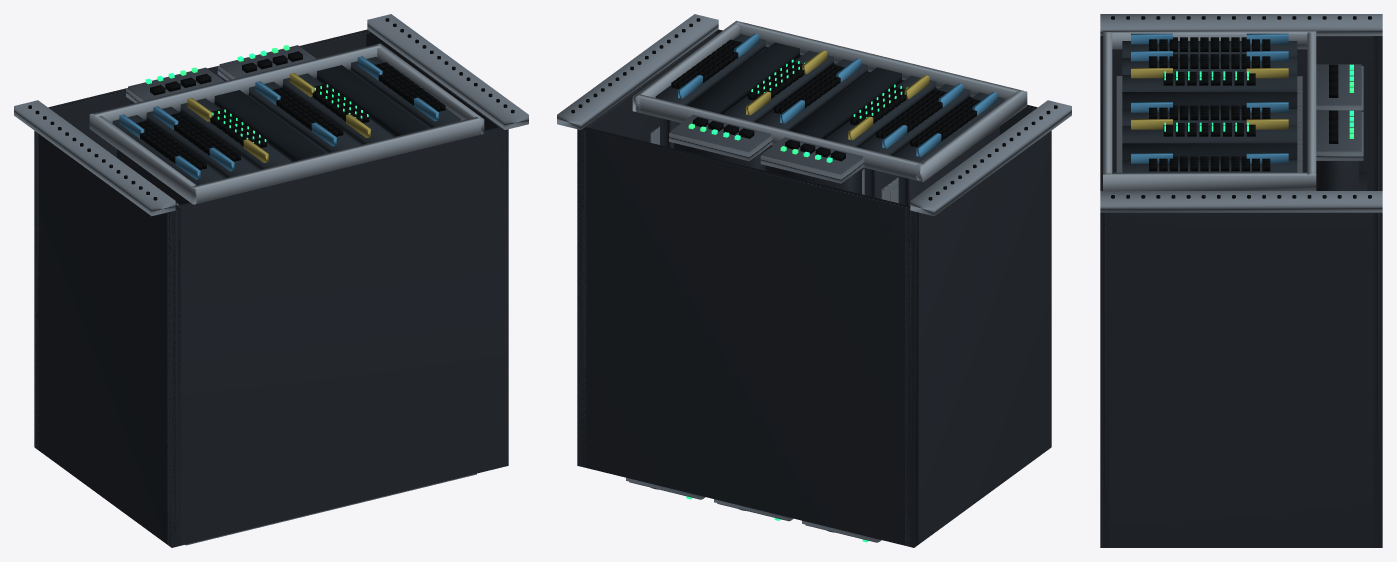
Rendered from core_switch_assembled_demo.glb.
3 views of the same model, side by side, from view 1: azimuth 30°, elevation 25°; view 2: azimuth 150°, elevation 25°; view 3: azimuth 270°, elevation 25° (orthographic). The views are drawn at different scales.
Visible parts, largest first — view 1: chassis_top, chassis_left, service_top_rail, rack_ear_left, rack_ear_right, chassis_bottom, service_bottom_rail, SLOT04_blank_blank_face, SLOT07_blank_blank_face, service_left_rail, service_right_rail, SLOT03_linecard_24sfp_linecard_face (+9 smaller); view 2: chassis_bottom, chassis_left, rack_ear_left, rack_ear_right, chassis_right, service_top_rail, service_bottom_rail, SLOT07_blank_blank_face, SLOT04_blank_blank_face, service_left_rail, service_right_rail, SUP1_supervisor_face (+13 smaller); view 3: chassis_right, rack_ear_right, rack_ear_left, chassis_bottom, chassis_left, service_right_rail, chassis_top, SLOT07_blank_blank_face, SLOT06_linecard_24sfp_linecard_face, SLOT04_blank_blank_face, SLOT03_linecard_24sfp_linecard_face, service_left_rail (+23 smaller).
Part boxes in pixels (x1,y1,x2,y2): chassis_top: (167, 127, 508, 547); chassis_left: (34, 133, 180, 547); service_top_rail: (192, 117, 481, 203); rack_ear_left: (14, 100, 175, 216); rack_ear_right: (367, 14, 528, 129); chassis_bottom: (34, 29, 370, 449); service_bottom_rail: (93, 44, 381, 123); SLOT04_blank_blank_face: (214, 90, 324, 161); SLOT07_blank_blank_face: (317, 65, 427, 137); service_left_rail: (89, 113, 196, 204); service_right_rail: (377, 43, 484, 134); SLOT03_linecard_24sfp_linecard_face: (180, 98, 290, 170); chassis_bottom: (577, 127, 918, 547); chassis_left: (905, 130, 1051, 547); rack_ear_left: (910, 100, 1071, 216); rack_ear_right: (557, 14, 718, 129); chassis_right: (577, 31, 721, 467); service_top_rail: (735, 21, 1023, 100); service_bottom_rail: (635, 94, 924, 181); SLOT07_blank_blank_face: (689, 42, 799, 114); SLOT04_blank_blank_face: (792, 67, 901, 139); service_left_rail: (916, 90, 1027, 181); service_right_rail: (632, 20, 742, 112); SUP1_supervisor_face: (762, 137, 862, 174); chassis_right: (1100, 212, 1382, 547); rack_ear_right: (1100, 191, 1382, 212); rack_ear_left: (1100, 14, 1382, 35); chassis_bottom: (1373, 36, 1382, 547); chassis_left: (1101, 36, 1382, 190); service_right_rail: (1103, 172, 1316, 190); chassis_top: (1100, 36, 1109, 547); SLOT07_blank_blank_face: (1122, 143, 1297, 160); SLOT06_linecard_24sfp_linecard_face: (1122, 126, 1297, 143); SLOT04_blank_blank_face: (1122, 92, 1297, 108); SLOT03_linecard_24sfp_linecard_face: (1122, 75, 1297, 91); service_left_rail: (1103, 30, 1316, 49).
Bounding box in the file's own units: 0.4926 × 0.466 × 0.3112.
